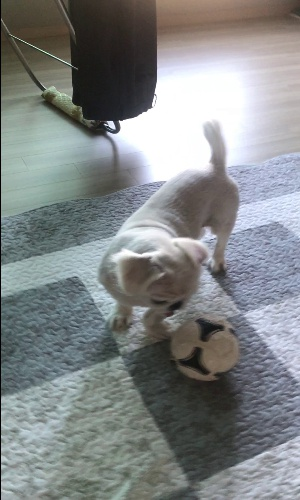ddubi: (92, 115, 243, 335)
